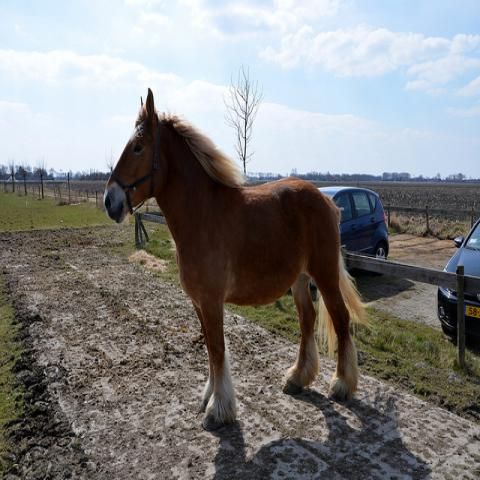car: (319, 186, 392, 264), (436, 218, 480, 346)
